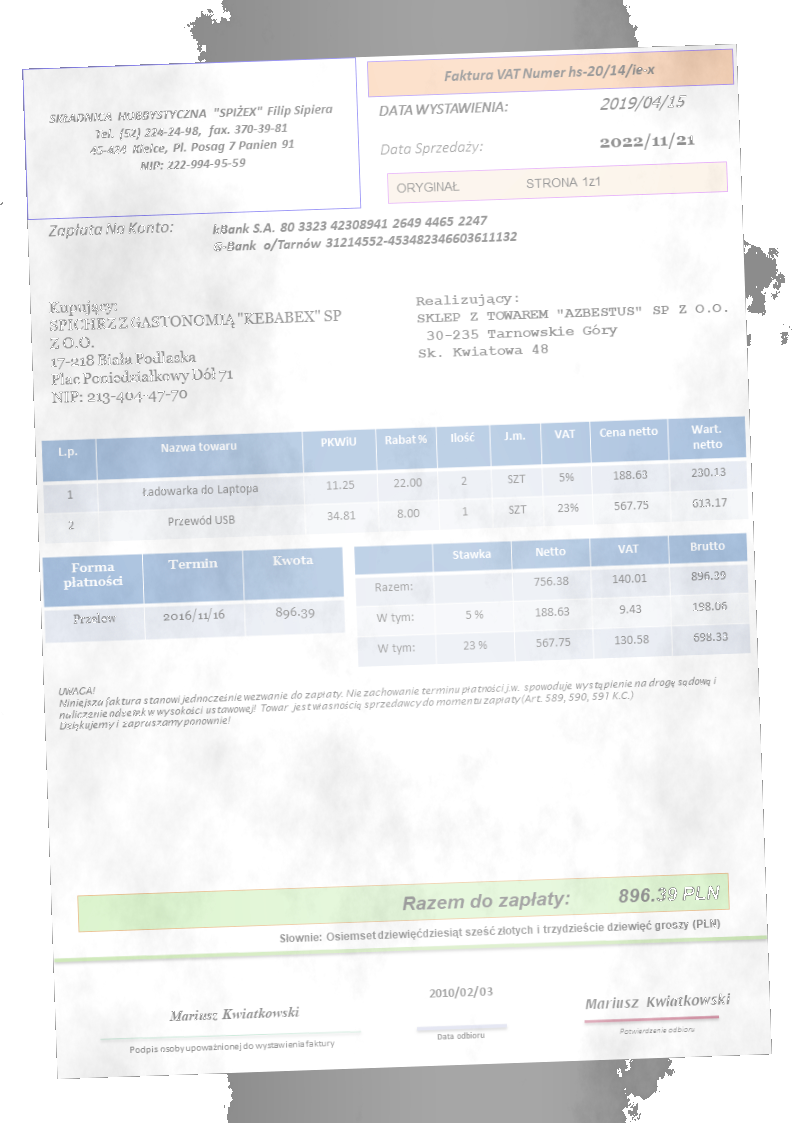Table: (39, 414, 751, 547), (352, 530, 751, 668), (41, 545, 345, 645)
TextBox: (55, 660, 722, 734), (43, 285, 350, 408), (411, 281, 730, 363), (47, 99, 336, 176), (277, 913, 725, 949), (209, 209, 520, 254), (399, 878, 724, 917), (441, 59, 656, 86), (126, 1033, 338, 1060), (394, 171, 605, 197), (582, 990, 736, 1015), (166, 1000, 302, 1026), (376, 96, 510, 119), (43, 217, 177, 240), (377, 136, 485, 160), (595, 130, 696, 155), (596, 91, 688, 114), (617, 1021, 697, 1041), (425, 982, 494, 1003), (433, 1028, 488, 1042)
